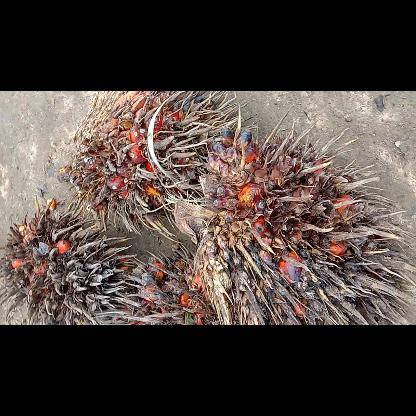Terlalu masak: (167, 121, 414, 324), (57, 90, 255, 233), (0, 194, 151, 324)
